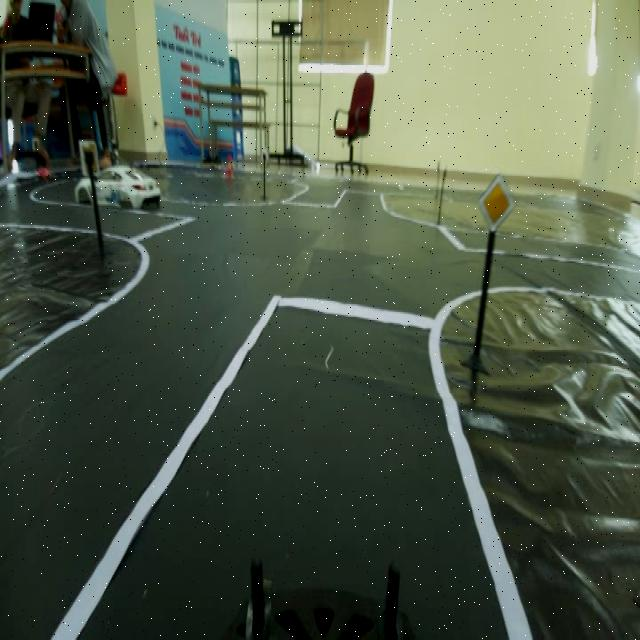priority: (476, 178, 512, 240)
